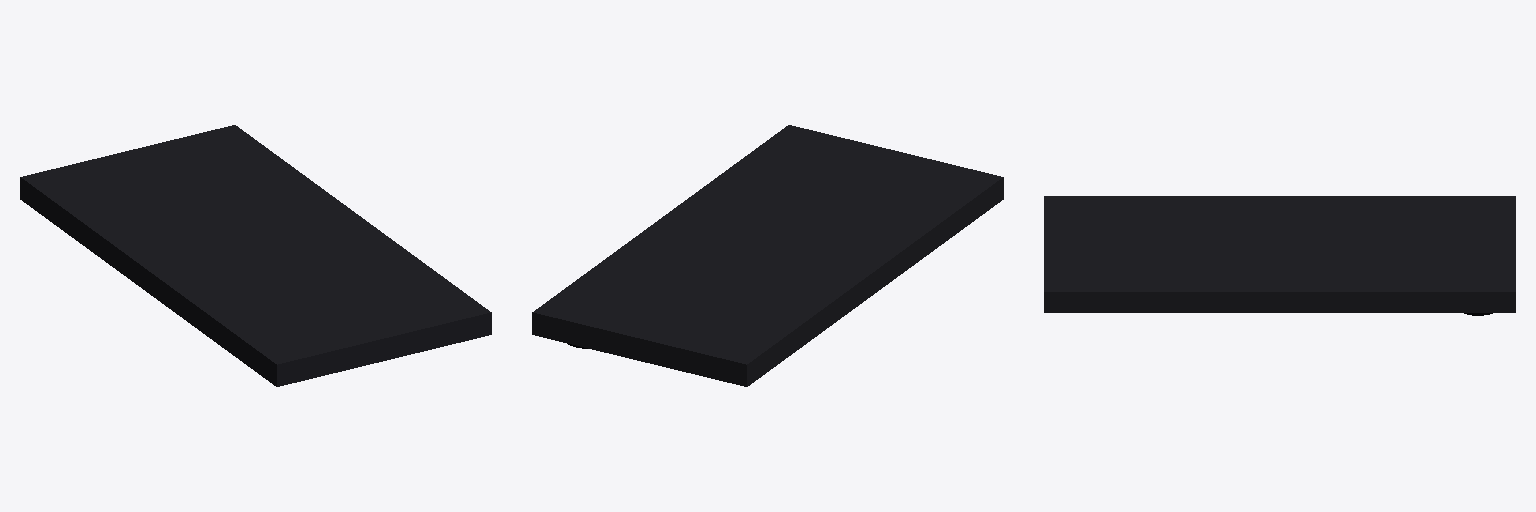
robot.urdf — iphone_15_plus:
<?xml version="1.0"?>
<!-- iPhone 15 Plus: generated by imuninn from Apple's dimensional drawings (iphone-frames dataset). Frames: device = display centre on the front glass (x right, y top, z out of the screen); cam_*_optical = OpenCV axes. Geometry and mass are approximate. -->
<robot name="iphone_15_plus">
  <material name="iphone_body">
    <color rgba="0.15 0.15 0.17 1" />
  </material>
  <material name="iphone_lens">
    <color rgba="0.05 0.05 0.06 1" />
  </material>
  <link name="device">
    <visual name="body">
      <origin xyz="5e-06 -5e-06 -0.003905" rpy="0 0 0" />
      <geometry>
        <box size="0.07776 0.16089 0.00781" />
      </geometry>
      <material name="iphone_body" />
    </visual>
    <collision name="body">
      <origin xyz="5e-06 -5e-06 -0.003905" rpy="0 0 0" />
      <geometry>
        <box size="0.07776 0.16089 0.00781" />
      </geometry>
    </collision>
    <visual name="lens_ultra_wide">
      <origin xyz="0.026155 0.06771 -0.00955" rpy="0 0 0" />
      <geometry>
        <cylinder radius="0.007535" length="0.00348" />
      </geometry>
      <material name="iphone_lens" />
    </visual>
    <visual name="lens_main">
      <origin xyz="0.013245 0.0548 -0.00955" rpy="0 0 0" />
      <geometry>
        <cylinder radius="0.007535" length="0.00348" />
      </geometry>
      <material name="iphone_lens" />
    </visual>
    <inertial>
      <origin xyz="5e-06 -5e-06 -0.003905" rpy="0 0 0" />
      <mass value="0.225" />
      <inertia ixx="0.000486499" ixy="0" ixz="0" iyy="0.000114518" iyz="0" izz="0.000598729" />
    </inertial>
  </link>
  <link name="magsafe" />
  <joint name="device_to_magsafe" type="fixed">
    <parent link="device" />
    <child link="magsafe" />
    <origin xyz="5e-06 0 -0.00781" rpy="3.14159265 0 3.14159265" />
  </joint>
  <link name="cam_ultra_wide_optical" />
  <joint name="device_to_cam_ultra_wide_optical" type="fixed">
    <parent link="device" />
    <child link="cam_ultra_wide_optical" />
    <origin xyz="0.026155 0.06771 -0.01129" rpy="3.14159265 0 -1.57079633" />
  </joint>
  <link name="cam_main_optical" />
  <joint name="device_to_cam_main_optical" type="fixed">
    <parent link="device" />
    <child link="cam_main_optical" />
    <origin xyz="0.013245 0.0548 -0.01129" rpy="3.14159265 0 -1.57079633" />
  </joint>
  <link name="cam_front_optical" />
  <joint name="device_to_cam_front_optical" type="fixed">
    <parent link="device" />
    <child link="cam_front_optical" />
    <origin xyz="0.007345 0.07227 0" rpy="0 0 1.57079633" />
  </joint>
  <link name="imu" />
  <joint name="device_to_imu" type="fixed">
    <parent link="device" />
    <child link="imu" />
    <origin xyz="0 0 0" rpy="0 0 0" />
  </joint>
</robot>

--- Render facts (derived) ---
Views: 3 orthographic renders of the robot side by side, from view 1: azimuth 30°, elevation 25°; view 2: azimuth 150°, elevation 25°; view 3: azimuth 270°, elevation 25°.
Model iphone_15_plus with 6 links and 5 joints (5 fixed), rooted at device, posed every joint at zero.
Visible links, largest first — view 1: device; view 2: device; view 3: device.
Boxes of the visible links, x1,y1,x2,y2 form: device: (20, 125, 491, 386); device: (532, 125, 1003, 386); device: (1044, 196, 1515, 315).
Size in the robot's own frame: 0.0778 by 0.1609 by 0.0113 metres.
Geometry: primitives only (box / cylinder / sphere), no mesh files.
